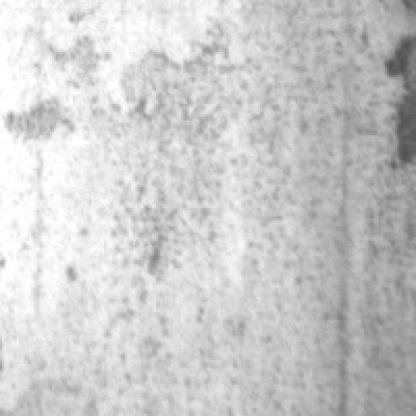patches: (2, 90, 71, 142)
pitted_surface: (44, 10, 374, 402)
